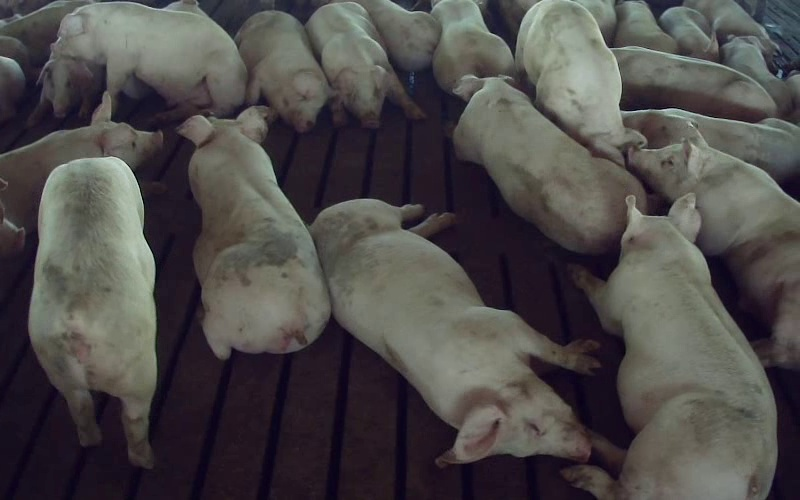pig: (310, 199, 598, 465), (564, 194, 776, 499), (629, 132, 799, 368), (29, 157, 156, 467), (178, 107, 329, 358), (453, 75, 646, 253), (0, 92, 162, 231), (52, 2, 246, 115), (516, 0, 645, 165), (305, 2, 424, 127), (622, 108, 799, 182), (612, 46, 776, 122), (235, 10, 329, 132), (431, 0, 514, 93), (683, 0, 778, 68), (354, 0, 440, 71), (720, 36, 792, 118), (614, 0, 677, 53), (658, 6, 718, 61)
